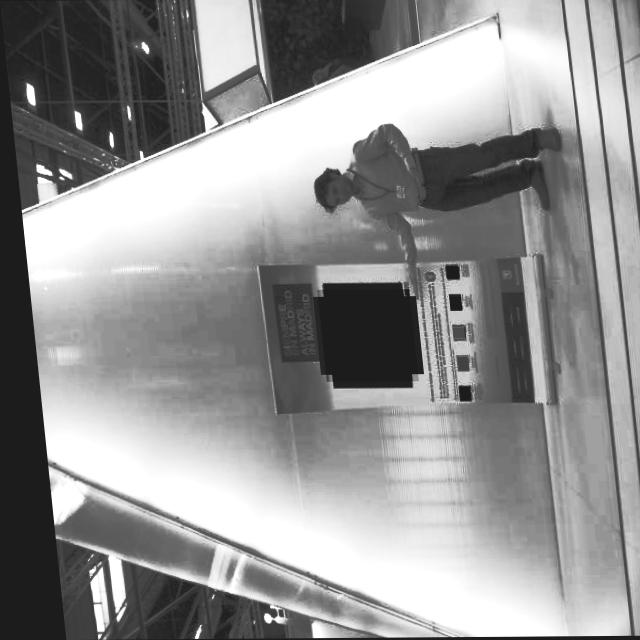qr_code: (311, 289, 410, 381), (448, 355, 462, 372), (442, 294, 456, 310), (450, 385, 463, 401), (445, 325, 458, 340), (440, 265, 453, 279)
